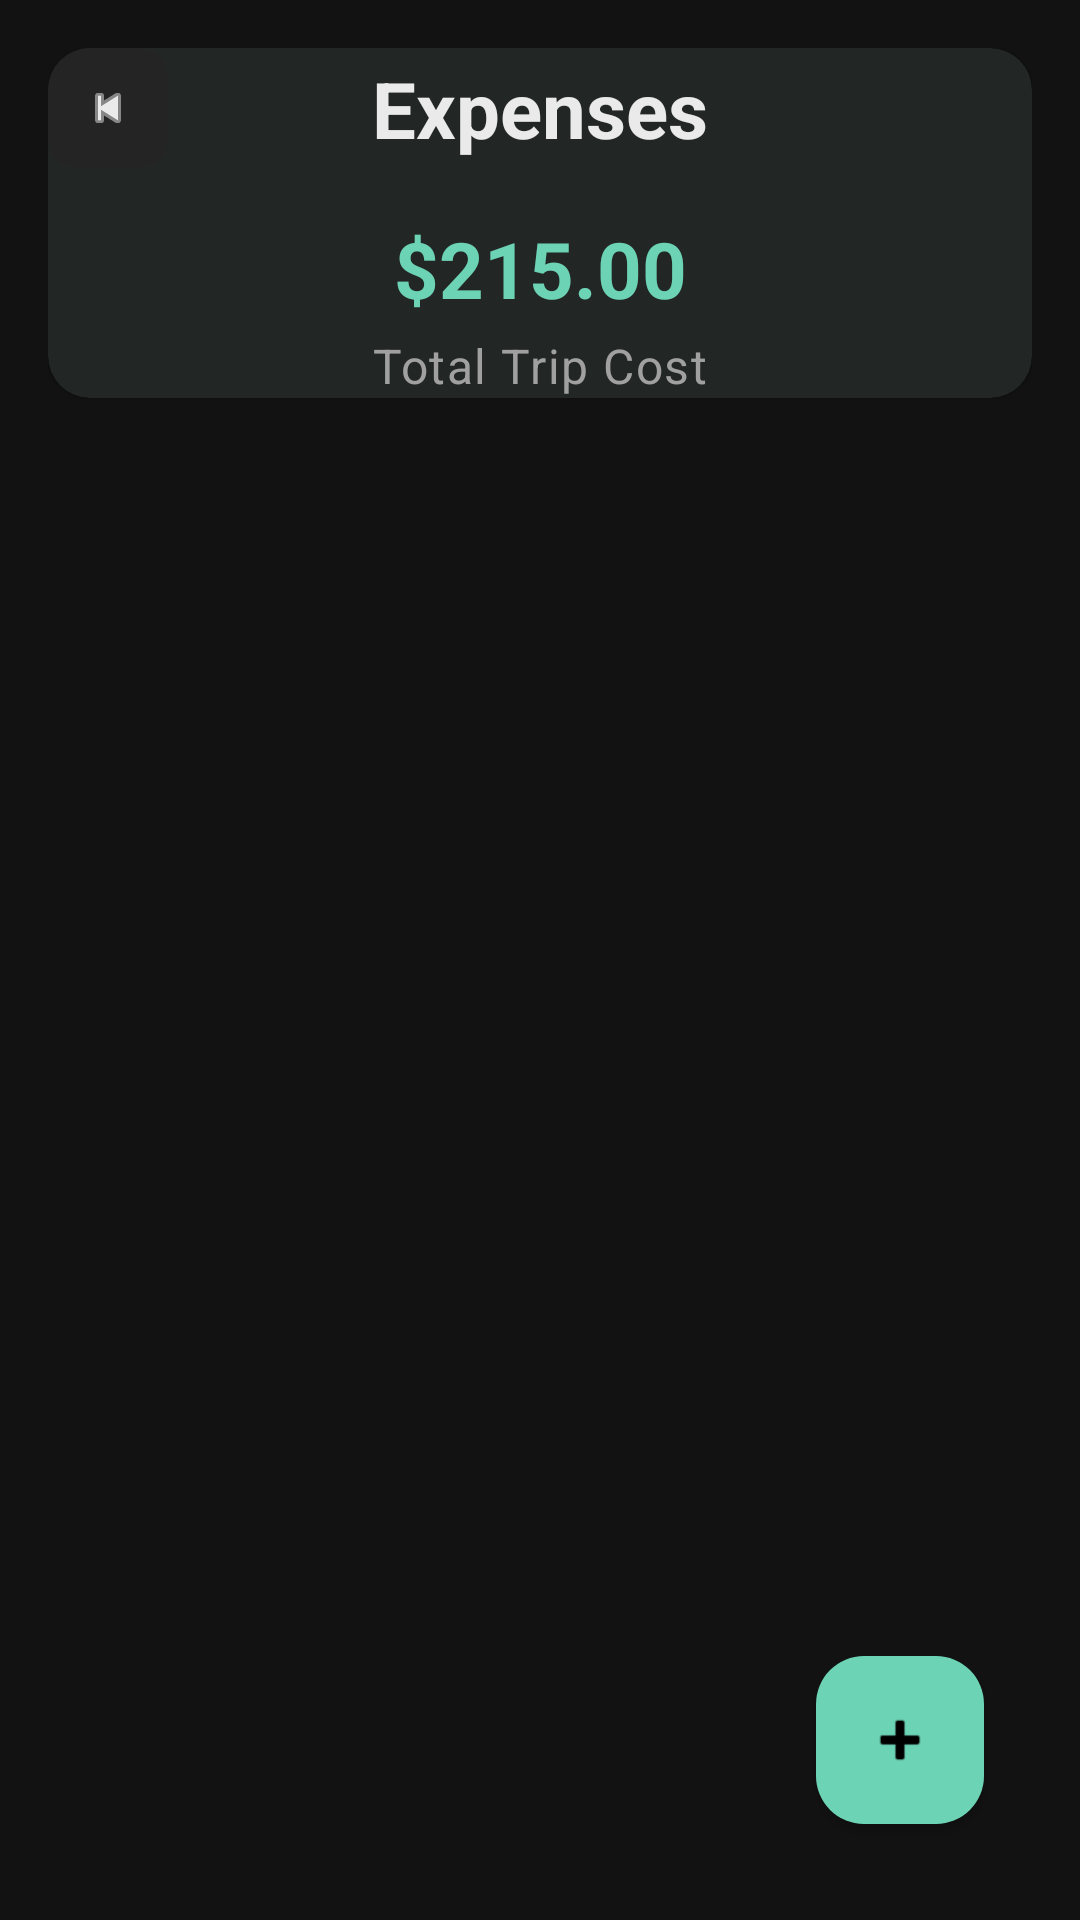

Where icons sit on this 1080*1920 app screen, as (x1, y1, x2, y2):
Add expense: (816, 1656, 984, 1824)
previous: (95, 93, 121, 123)
